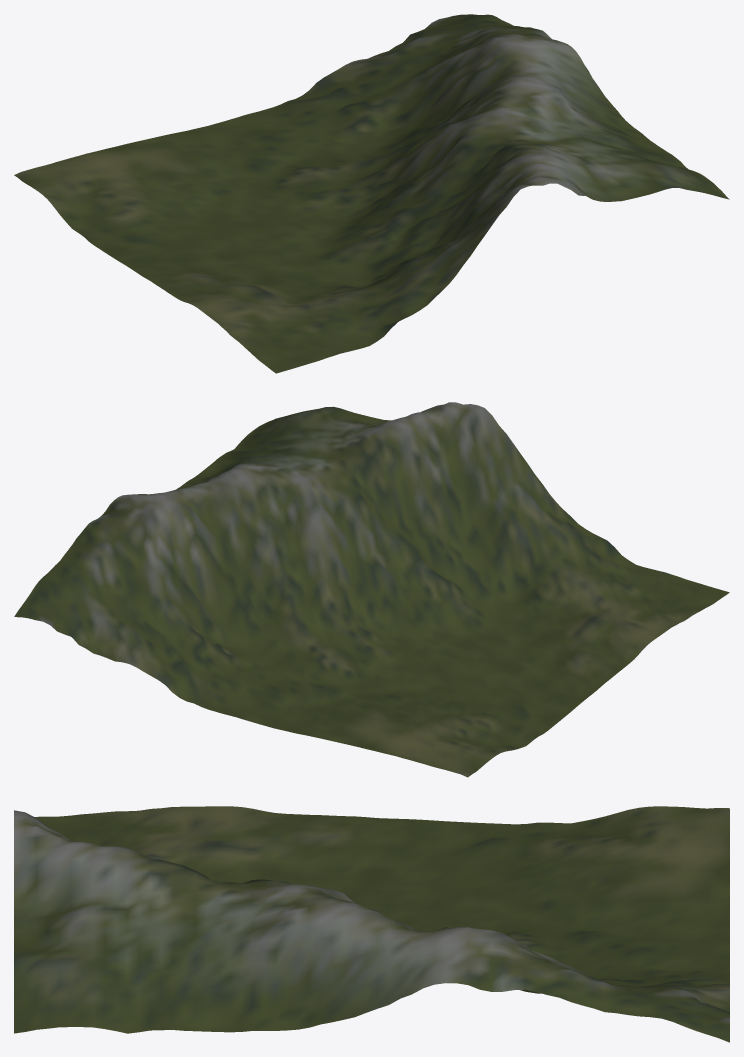
Rendered from TownLandscape_Mesh_x0125_0_1.fbx.
3 renders of one model, top to bottom at view 1: azimuth 30°, elevation 25°; view 2: azimuth 150°, elevation 25°; view 3: azimuth 270°, elevation 25°, orthographic. The views are drawn at different scales.
Parts seen in each view (by area): view 1: Terrain; view 2: Terrain; view 3: Terrain.
Part boxes in pixels (box(x1,y1,x2,y2)): Terrain: box(14, 14, 729, 373); Terrain: box(14, 402, 729, 777); Terrain: box(14, 806, 729, 1042).
Bounding box in the file's own units: 1024 × 282 × 1024.
